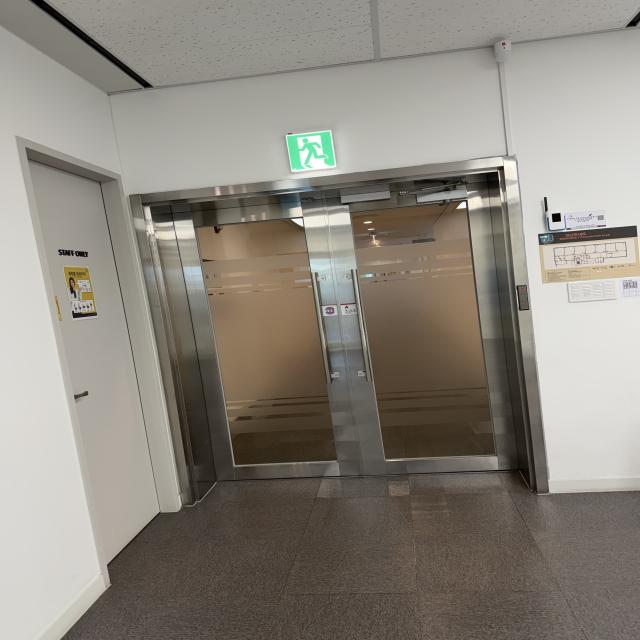rear_door: (158, 173, 521, 485)
